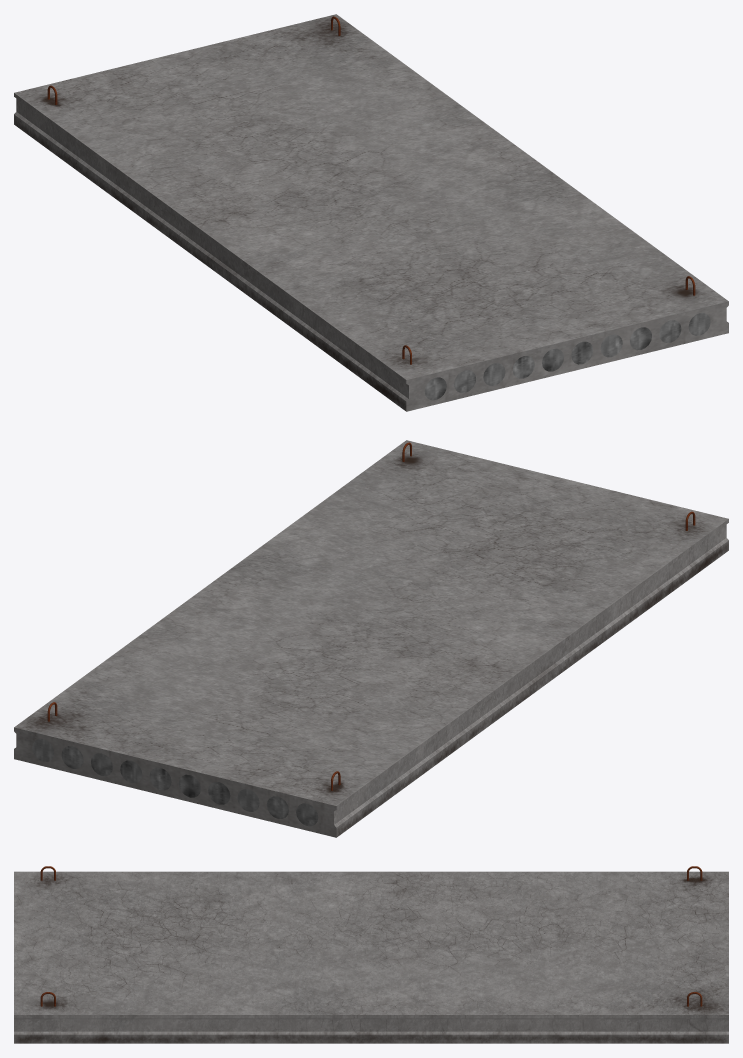
3 views of the same model, one above another, from view 1: azimuth 30°, elevation 25°; view 2: azimuth 150°, elevation 25°; view 3: azimuth 270°, elevation 25° (orthographic). The views are drawn at different scales.
Parts seen in each view (by area): view 1: Box001; view 2: Box001; view 3: Box001, Rectangle001_rings_0.
Part boxes in pixels (x1,y1,x2,y2): Box001: [14, 14, 728, 411]; Box001: [14, 440, 728, 837]; Box001: [14, 871, 728, 1043]; Rectangle001_rings_0: [40, 866, 702, 1006].
Size of the model in its own units: 2.59 by 0.3618 by 5.46.
Materials: 3 (3 with a texture image).
